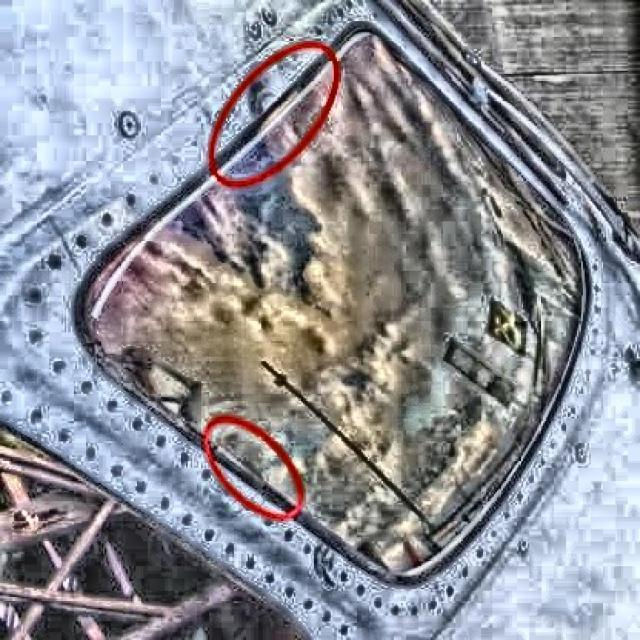crack: (311, 540, 334, 589)
